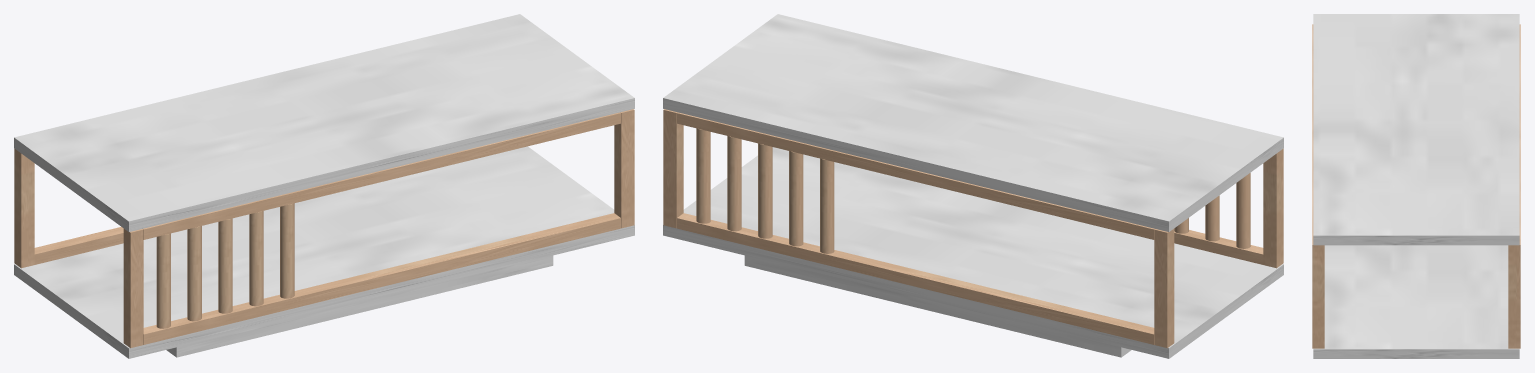
Rendered from new_living_table.fbx.
3 renders of one model, left to right at view 1: azimuth 30°, elevation 25°; view 2: azimuth 150°, elevation 25°; view 3: azimuth 270°, elevation 25°, orthographic. The views are drawn at different scales.
Parts seen in each view (by area): view 1: polySurface182, polySurface176, polySurface188, polySurface190, polySurface178, polySurface181, polySurface175, polySurface185, polySurface180, polySurface186, polySurface192, polySurface191 (+2 smaller); view 2: polySurface182, polySurface176, polySurface180, polySurface177, polySurface178, polySurface175, polySurface181, polySurface187, polySurface189, polySurface194, polySurface193, polySurface179 (+4 smaller); view 3: polySurface182, polySurface176, polySurface185, polySurface187, polySurface177, polySurface190.
Part boxes in pixels (x1,y1,x2,y2): polySurface182: (14,14,634,231); polySurface176: (14,146,634,358); polySurface188: (143,213,620,344); polySurface190: (143,112,620,239); polySurface178: (166,255,553,357); polySurface181: (123,229,143,348); polySurface175: (14,148,34,268); polySurface185: (614,109,634,228); polySurface180: (34,226,123,264); polySurface186: (249,211,263,306); polySurface192: (280,203,294,298); polySurface191: (156,233,170,328); polySurface182: (663,14,1283,231); polySurface176: (663,147,1283,358); polySurface180: (677,213,1154,344); polySurface177: (677,112,1154,239); polySurface178: (744,255,1131,357); polySurface175: (1154,229,1174,348); polySurface181: (1263,148,1283,268); polySurface187: (663,109,683,228); polySurface189: (696,128,710,223); polySurface194: (789,151,803,246); polySurface193: (758,143,772,238); polySurface179: (727,136,741,231); polySurface182: (1313,14,1519,245); polySurface176: (1313,245,1519,358); polySurface185: (1312,239,1324,348); polySurface187: (1508,239,1520,348); polySurface177: (1519,30,1520,239); polySurface190: (1312,30,1313,239).
Bounding box in the file's own units: 16.49 × 5.12 × 6.55.
